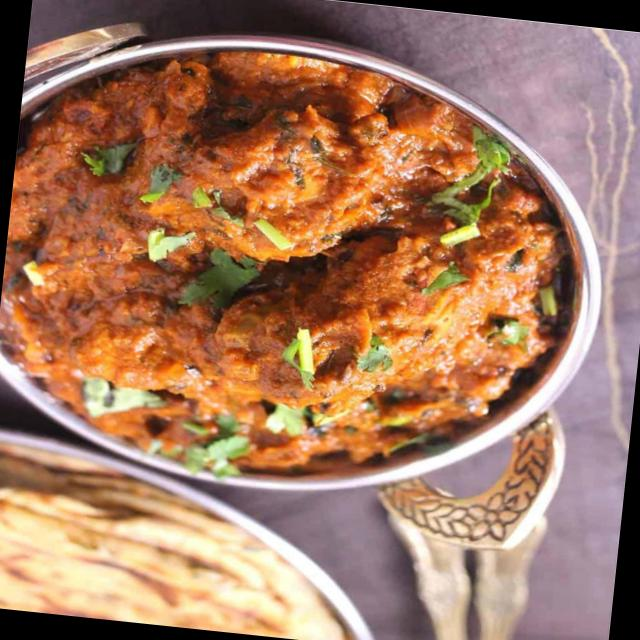chicken: (0, 33, 622, 511)
roti: (0, 485, 379, 640)
